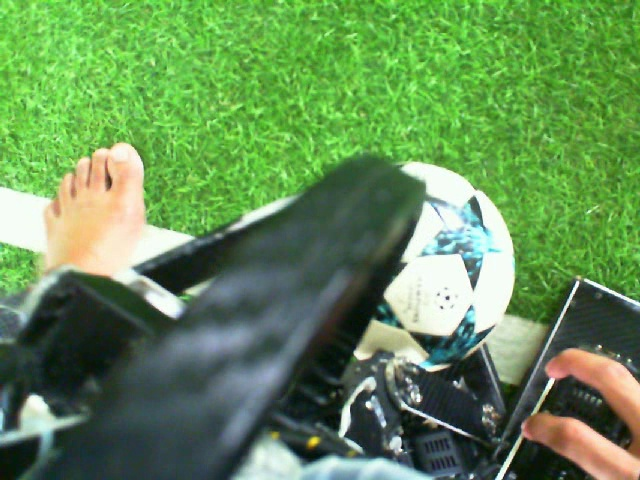ball: (348, 158, 519, 380)
